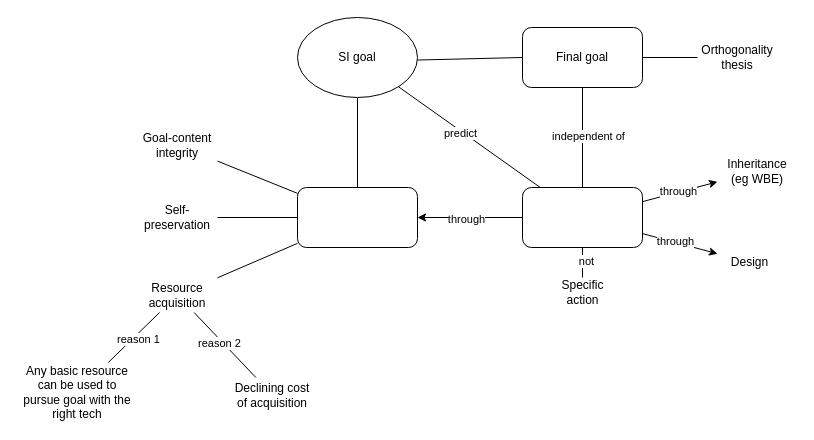
This 814x440 diagram has some shape labels left out. The shapes that lost their labels are listed below. From the top down, each one's box as (x1, y1, x2, y2) in pixels, then its label:
(296, 186, 418, 248): Instrumental goals
(522, 186, 642, 248): General behavior
